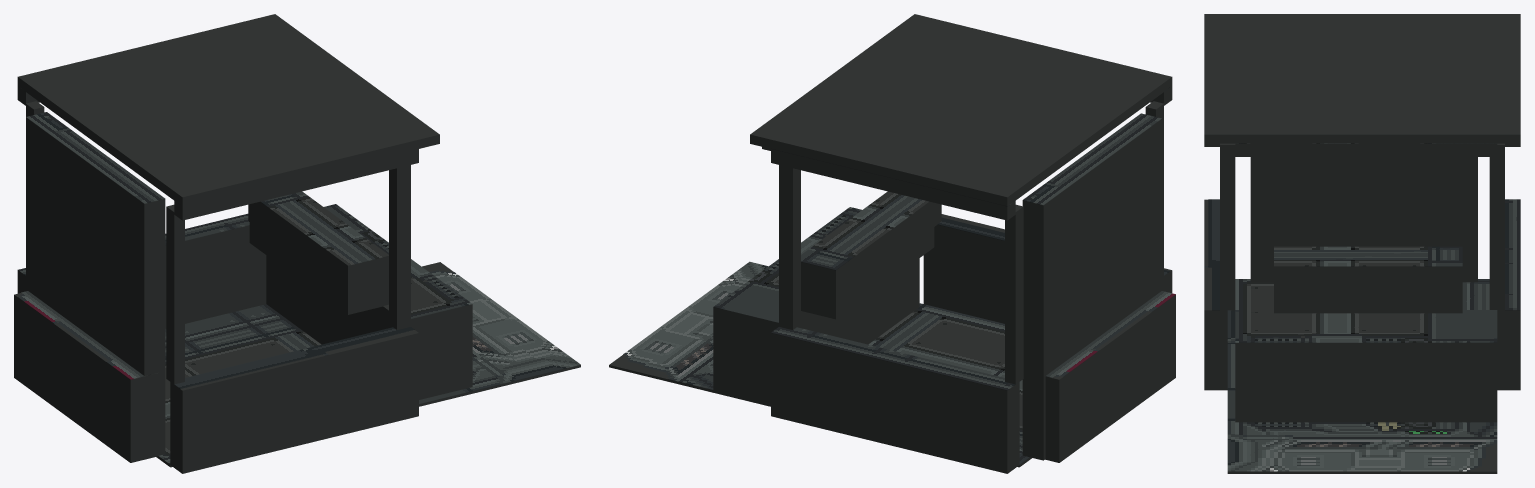
The model's file is CMU3DInteriorVehicleHumveeChassisTransport.glb.
3 views of the same model, side by side, from view 1: azimuth 30°, elevation 25°; view 2: azimuth 150°, elevation 25°; view 3: azimuth 270°, elevation 25° (orthographic). The views are drawn at different scales.
Visible parts, largest first — view 1: armored cabin sill (×4), cabin roof, rear bulkhead, cabin deck source finish, armored cabin sill source finish (×4), dashboard, window pillar (×2), dashboard source finish, overhead window rail, rear bulkhead source finish, cabin deck; view 2: armored cabin sill (×4), cabin roof, rear bulkhead, cabin deck source finish, armored cabin sill source finish (×4), window pillar (×3), dashboard, dashboard source finish, overhead window rail, rear bulkhead source finish, cabin deck; view 3: cabin roof, armored cabin sill (×3), rear bulkhead, cabin deck source finish, armored cabin sill source finish (×3), dashboard, window pillar (×2), dashboard source finish, overhead window rail, cabin deck.
Part boxes in pixels (x1=…): armored cabin sill (×4): x1=14, y1=225, x2=472, y2=473; cabin roof: x1=17, y1=14, x2=439, y2=206; rear bulkhead: x1=26, y1=117, x2=165, y2=458; cabin deck source finish: x1=158, y1=270, x2=580, y2=464; armored cabin sill source finish (×4): x1=18, y1=204, x2=472, y2=388; dashboard: x1=249, y1=202, x2=388, y2=314; window pillar (×2): x1=166, y1=165, x2=410, y2=384; dashboard source finish: x1=260, y1=191, x2=388, y2=265; overhead window rail: x1=174, y1=149, x2=418, y2=220; rear bulkhead source finish: x1=26, y1=112, x2=165, y2=203; cabin deck: x1=156, y1=262, x2=580, y2=467; armored cabin sill (×4): x1=713, y1=214, x2=1175, y2=473; cabin roof: x1=750, y1=14, x2=1172, y2=206; rear bulkhead: x1=1022, y1=119, x2=1161, y2=460; cabin deck source finish: x1=623, y1=261, x2=1029, y2=464; armored cabin sill source finish (×4): x1=713, y1=207, x2=1175, y2=390; window pillar (×3): x1=779, y1=101, x2=1163, y2=384; dashboard: x1=801, y1=202, x2=934, y2=319; dashboard source finish: x1=801, y1=191, x2=929, y2=270; overhead window rail: x1=771, y1=149, x2=1015, y2=220; rear bulkhead source finish: x1=1023, y1=113, x2=1161, y2=205; cabin deck: x1=609, y1=354, x2=1031, y2=467; cabin roof: x1=1204, y1=14, x2=1520, y2=143; armored cabin sill (×3): x1=1204, y1=199, x2=1520, y2=422; rear bulkhead: x1=1250, y1=157, x2=1477, y2=282; cabin deck source finish: x1=1227, y1=279, x2=1497, y2=471; armored cabin sill source finish (×3): x1=1204, y1=199, x2=1520, y2=342; dashboard: x1=1274, y1=266, x2=1462, y2=313; window pillar (×2): x1=1220, y1=143, x2=1504, y2=310; dashboard source finish: x1=1274, y1=246, x2=1462, y2=266; overhead window rail: x1=1235, y1=143, x2=1497, y2=156; cabin deck: x1=1227, y1=443, x2=1497, y2=473.
Bounding box in the file's own units: 3.94 × 2.4 × 2.56.
Materials: 11 (10 with a texture image).
